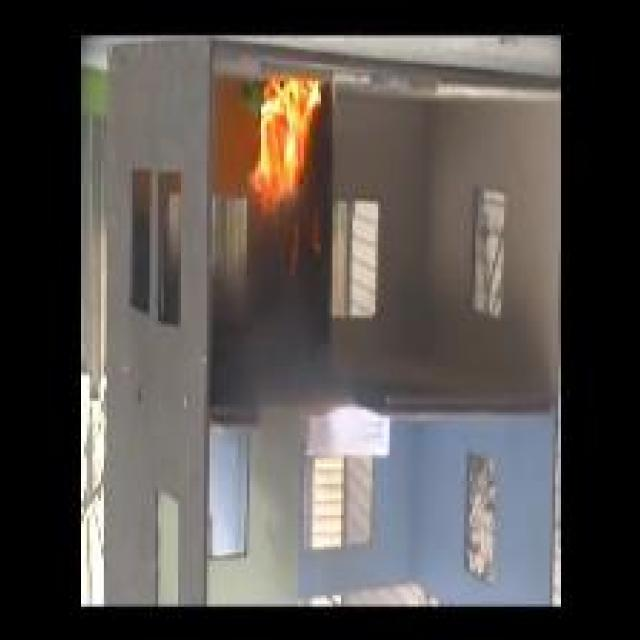Fire: (248, 76, 323, 213)
